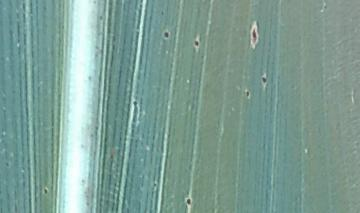tarspot: (248, 25, 260, 48), (242, 87, 254, 101), (258, 73, 271, 85), (129, 97, 142, 108), (183, 195, 195, 206), (161, 29, 172, 41), (41, 185, 50, 197), (192, 37, 200, 50)
